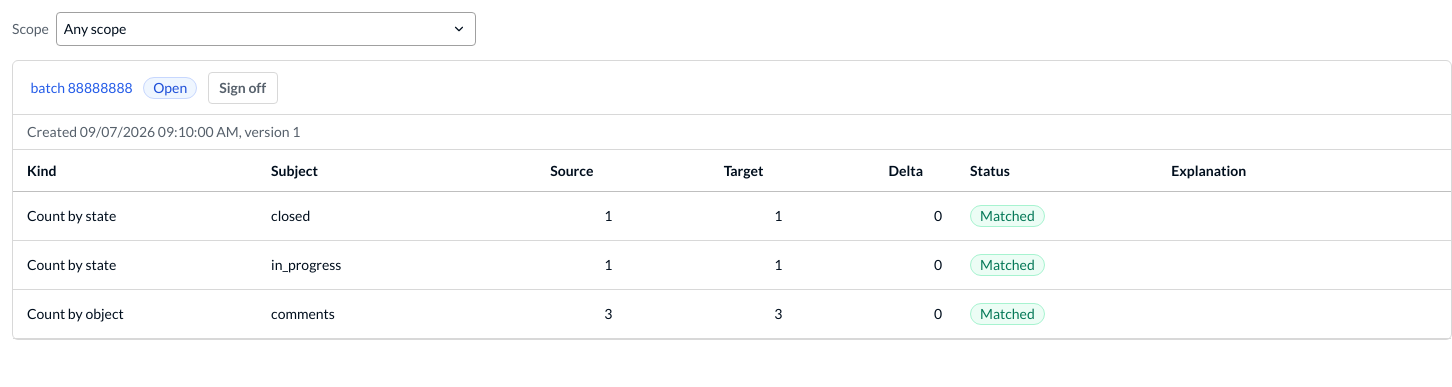
ReconciliationTab › surfaces signer_ran_batch and delta_open in the server's words when a stale view is refused on sign-off
Click the button "Sign off" at (243, 88), box [208, 72, 278, 104]
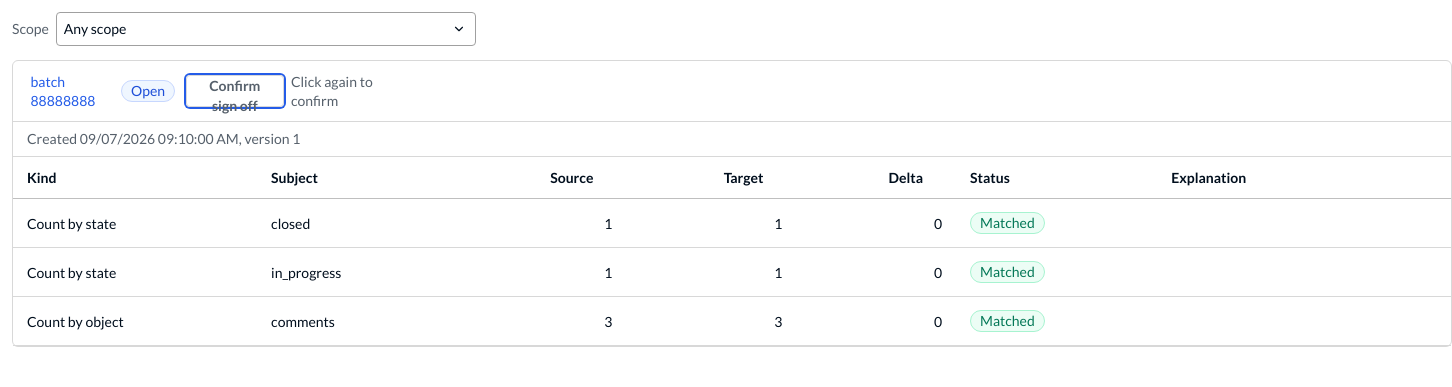
Click the button "Confirm sign off" at (235, 91), box [186, 75, 284, 107]
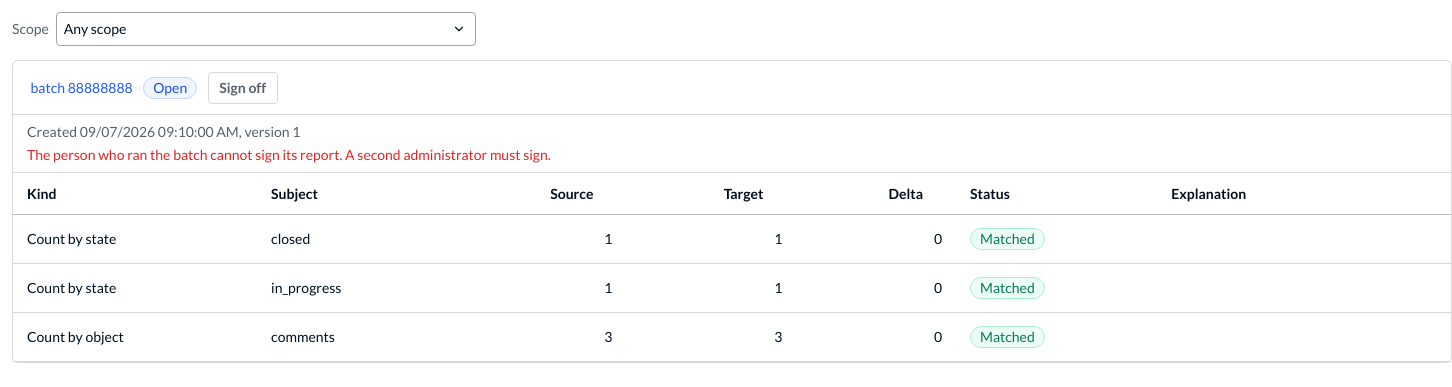
Expected: the text "cannot sign its report. A second administrator must sign" is shown, [27, 146, 551, 163]
Click the button "Sign off" at (243, 88), box [208, 72, 278, 104]
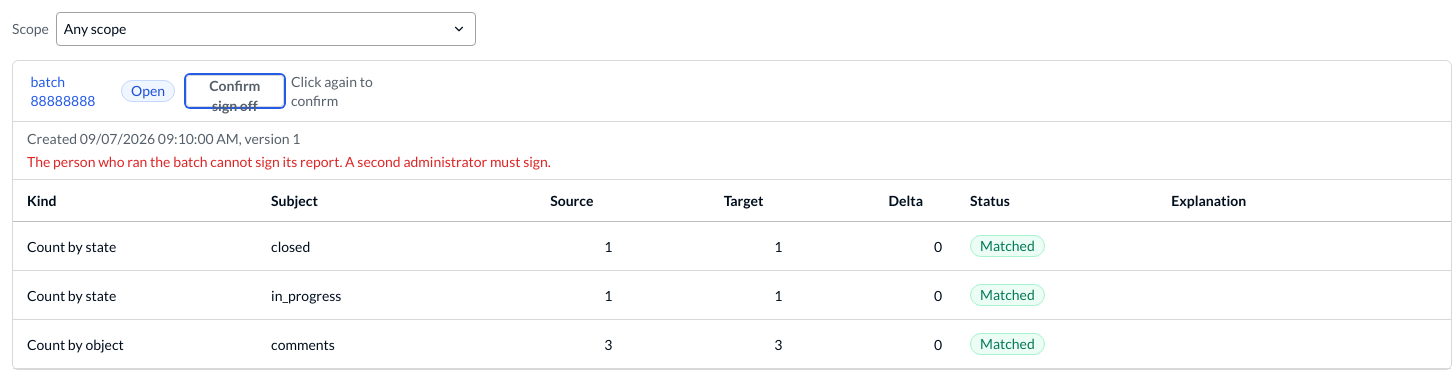
Click the button "Confirm sign off" at (235, 91), box [186, 75, 284, 107]
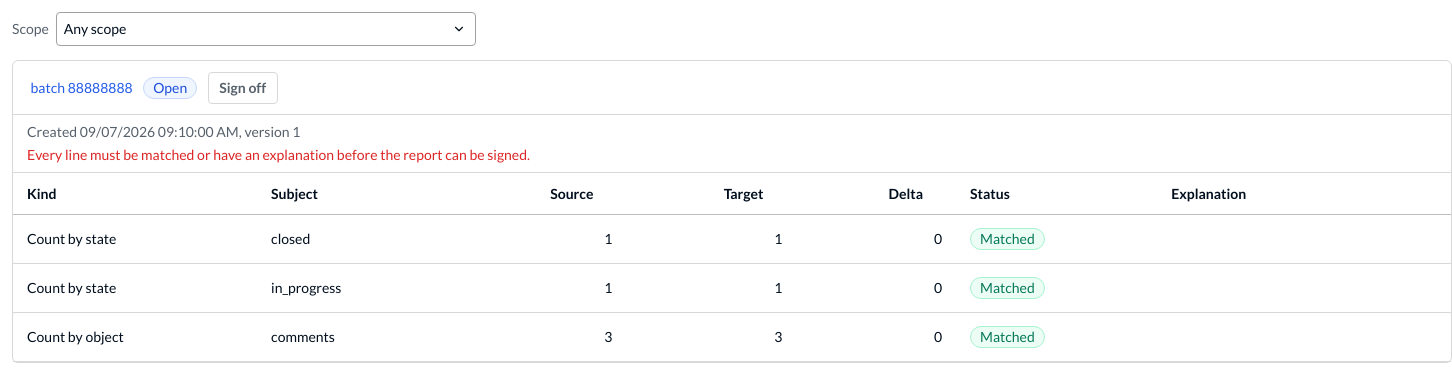
Expected: the text "must be matched or have an explanation before the report can be signed" is shown, [27, 146, 530, 163]
